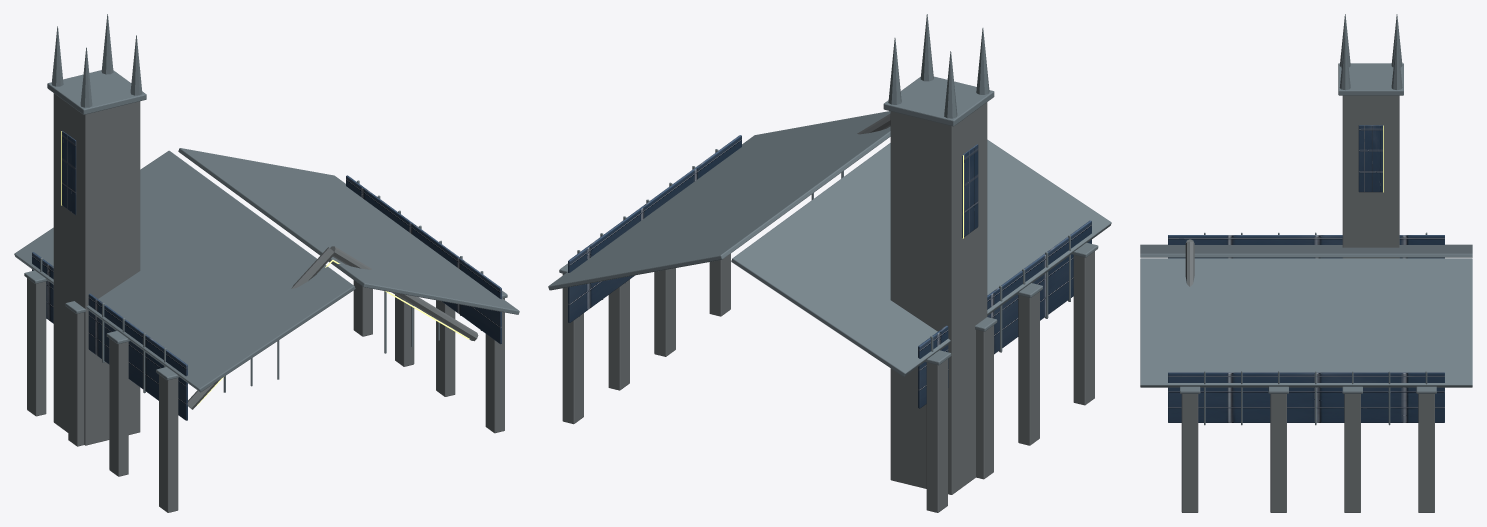
File: goth-architecture.glb
3 renders of one model, left to right at view 1: azimuth 30°, elevation 25°; view 2: azimuth 150°, elevation 25°; view 3: azimuth 270°, elevation 25°, orthographic. The views are drawn at different scales.
Parts seen in each view (by area): view 1: Buttress cap, Stepped buttress, Clerestory glazing; view 2: Buttress cap, Stepped buttress, Clerestory glazing; view 3: Buttress cap, Stepped buttress, Clerestory glazing.
Part boxes in pixels (x1,y1,x2,y2): Buttress cap: (14,14,519,393); Stepped buttress: (27,93,504,512); Clerestory glazing: (32,131,501,420); Buttress cap: (548,14,1111,376); Stepped buttress: (562,102,1094,512); Clerestory glazing: (568,135,1091,408); Buttress cap: (1140,14,1472,425); Stepped buttress: (1181,95,1434,512); Clerestory glazing: (1168,125,1444,422).
Size of the model in its own units: 19.1 by 21.25 by 18.
Materials: 4 (1 with a texture image).
